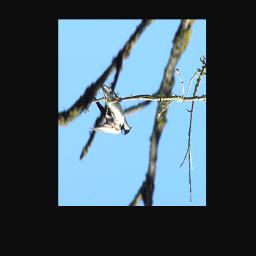Swallow: (89, 81, 132, 136)
